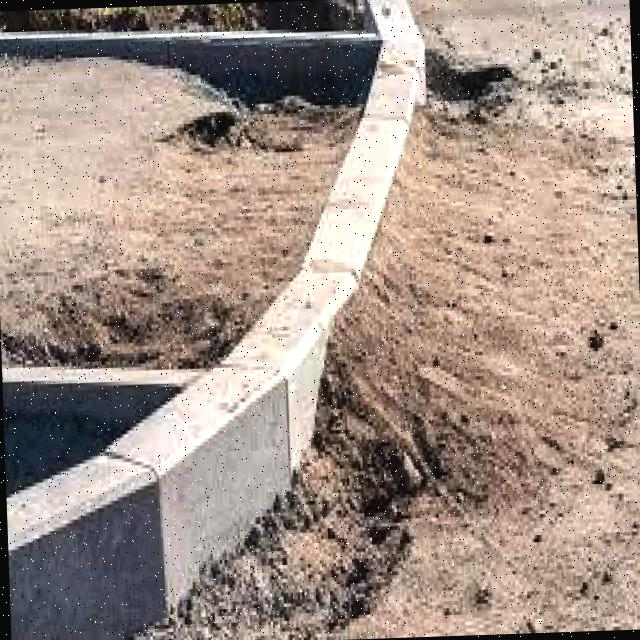curb: (1, 328, 351, 640), (287, 215, 390, 384), (334, 108, 436, 245), (369, 2, 443, 90)
